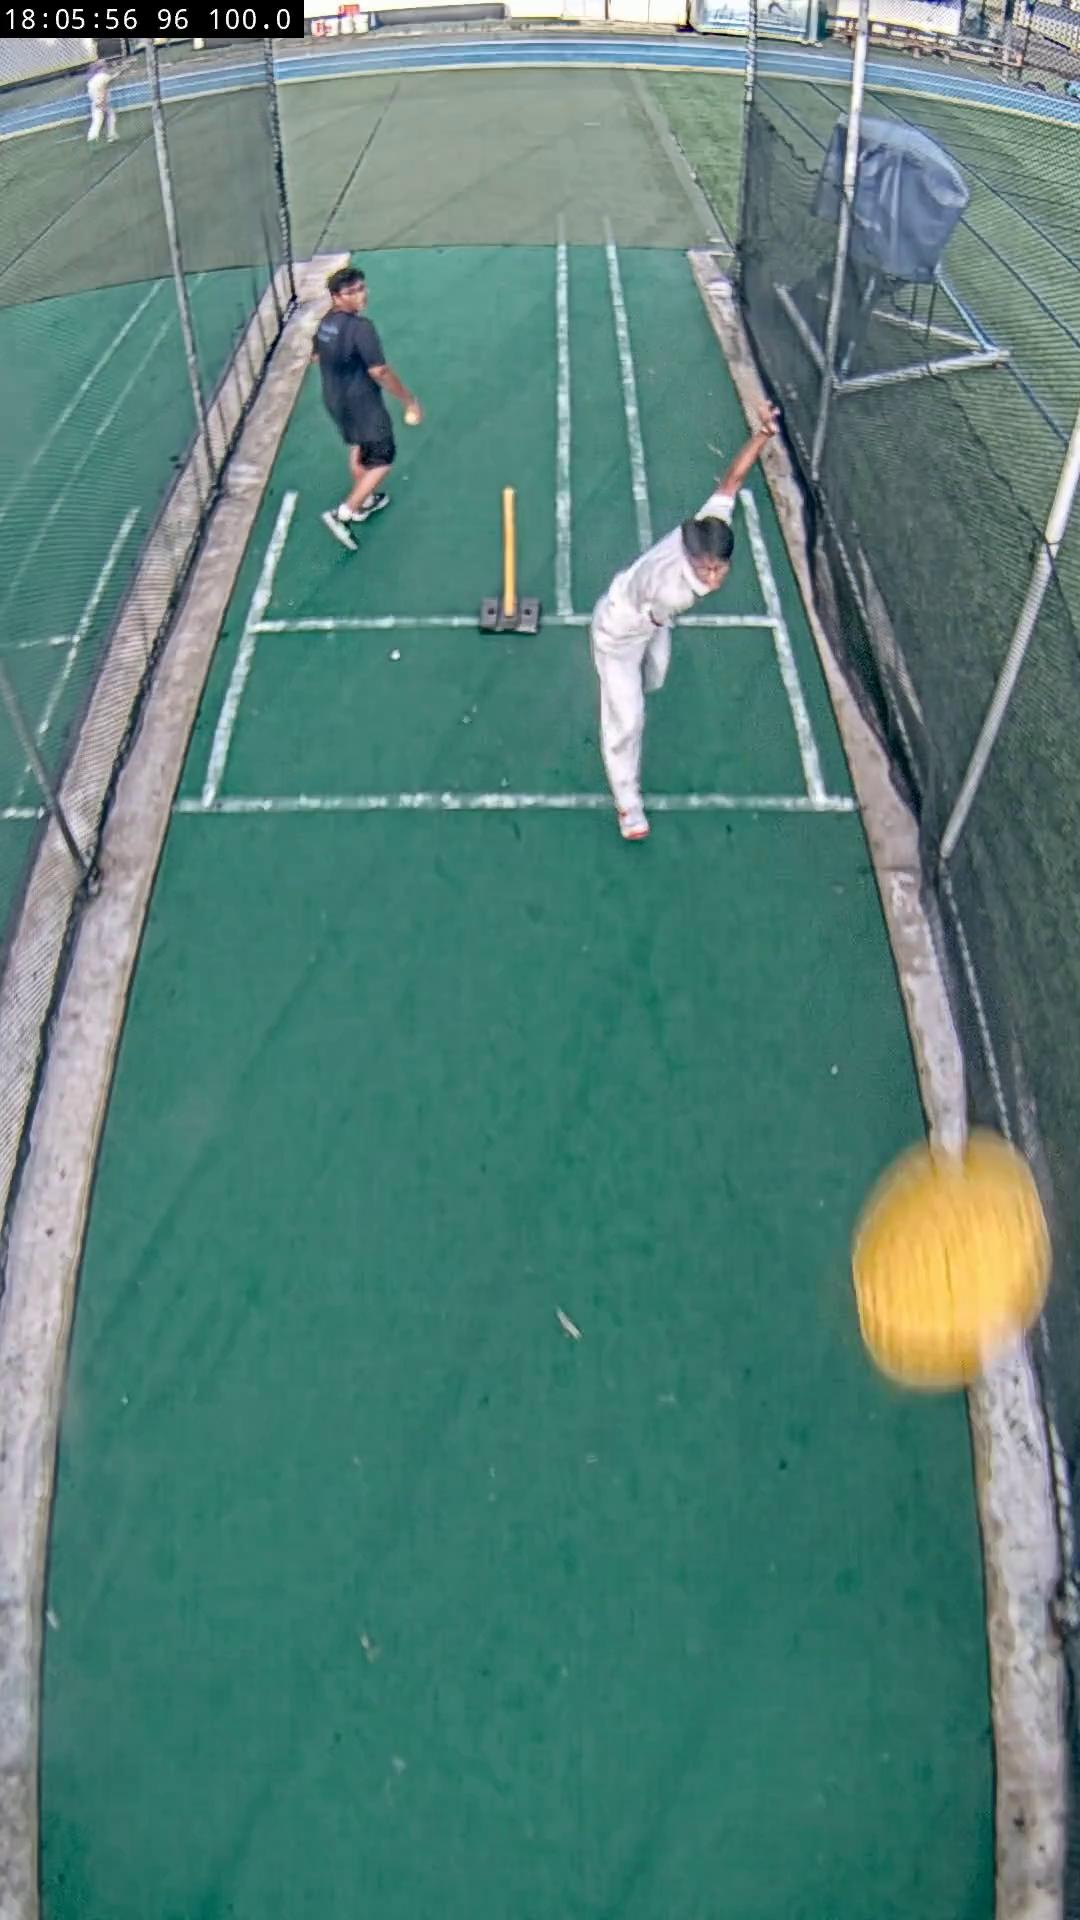ball: (852, 1129, 1050, 1387)
stumps: (476, 488, 541, 634)
